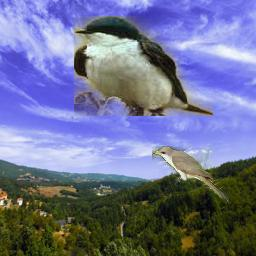Cuckoo: (153, 147, 230, 204)
Swallow: (75, 16, 214, 116)
